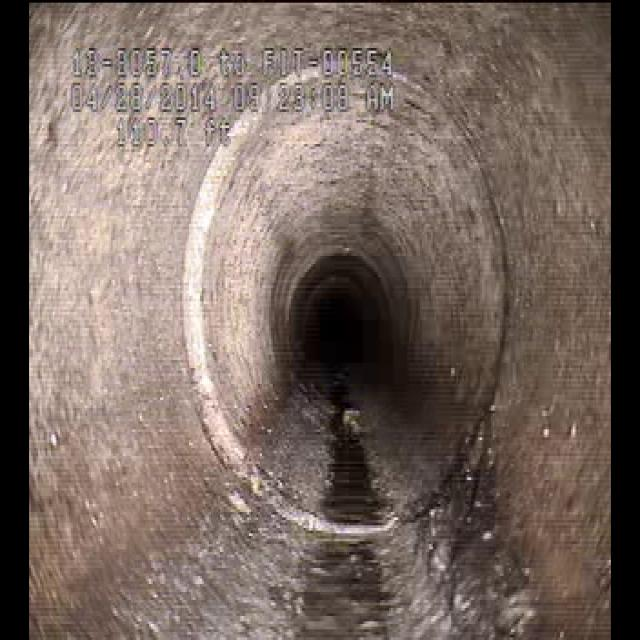Crack: (426, 425, 498, 588)
